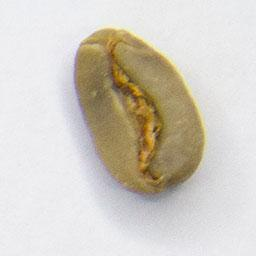longberry: (70, 22, 210, 201)
